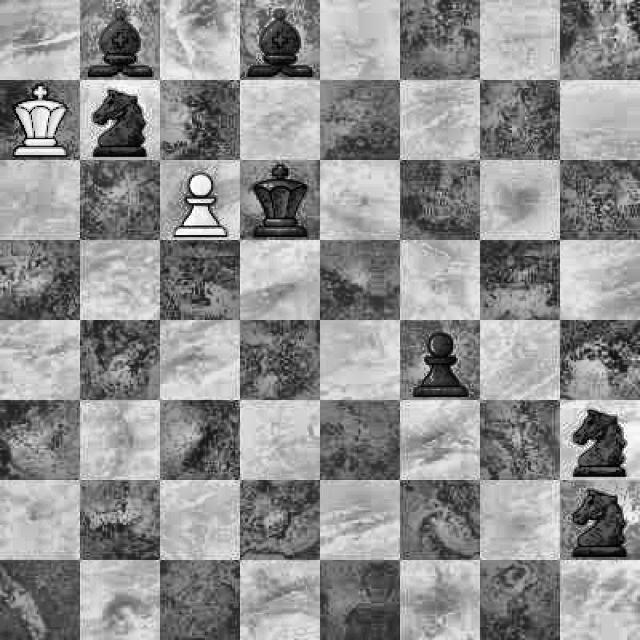Black Knight: (81, 81, 152, 159), (563, 488, 636, 556), (572, 406, 633, 479)
black bishop: (246, 2, 319, 82), (86, 0, 156, 81)
black king: (248, 162, 312, 240)
black pawn: (408, 326, 475, 400)
white king: (4, 81, 73, 157)
white pawn: (165, 163, 237, 238)
